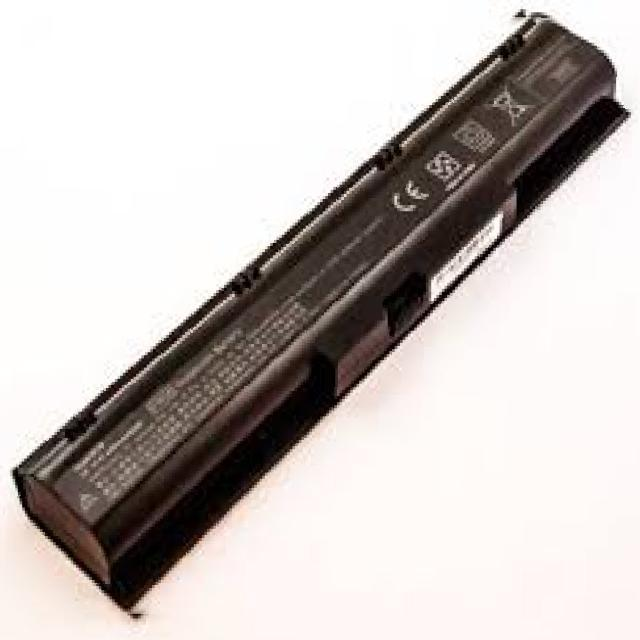Battery: (19, 7, 640, 640)
